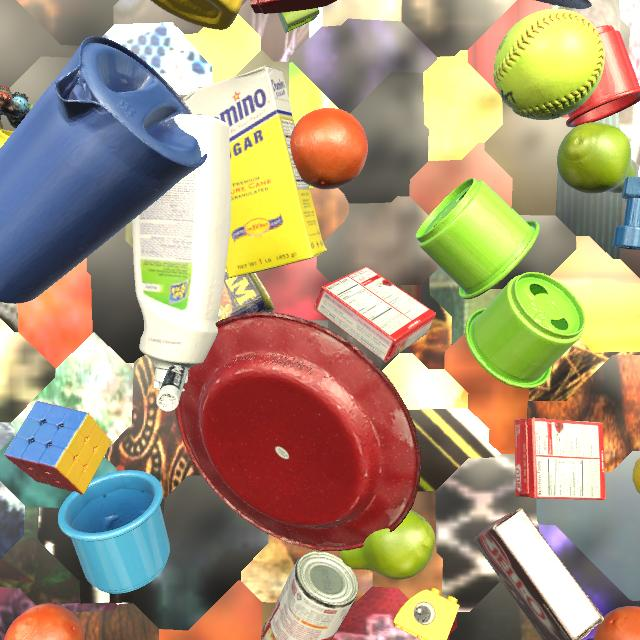ycb_004_sugar_box: (183, 65, 327, 278)
ycb_005_tomato_soup_can: (261, 551, 358, 640)
ycb_006_mustard_bottle: (151, 0, 243, 30)
ycb_008_pudding_box: (474, 508, 604, 640)
ycb_009_gelatin_box: (314, 267, 436, 363), (514, 418, 606, 500)
ycb_010_potted_meat_can: (217, 269, 274, 322)
ycb_014_lemon: (632, 458, 640, 494)
ycb_016_pear: (340, 510, 435, 580), (557, 122, 635, 194)
ycb_017_orange: (290, 108, 368, 190), (4, 603, 85, 640), (594, 606, 640, 640)
